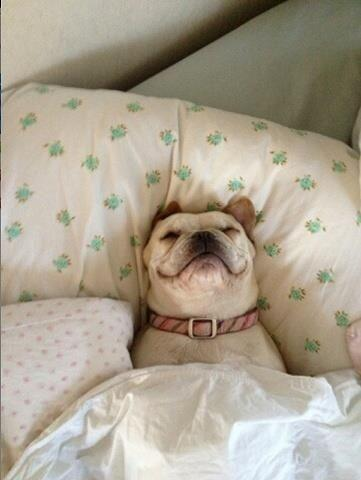adult_dog: (130, 195, 290, 372)
